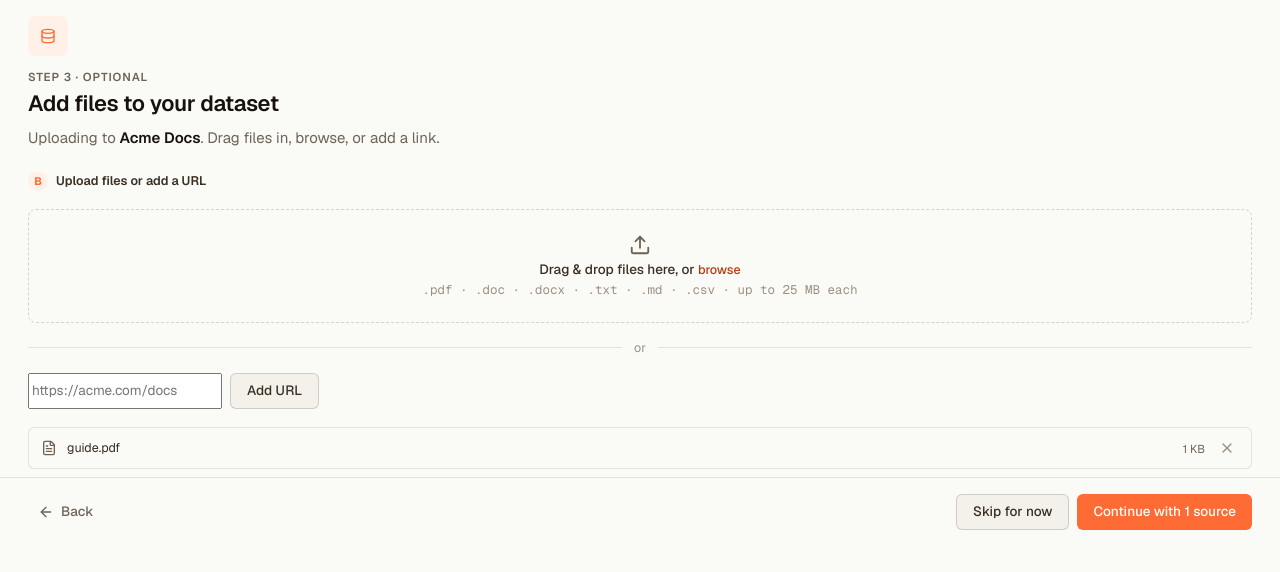
Test: OnboardingSource — files phase › shows a URL validation error when an invalid URL is submitted
Type "not-a-url!!!" into the field with placeholder "https://acme.com/docs" at point(125, 391), box left=28, top=373, right=222, bottom=409
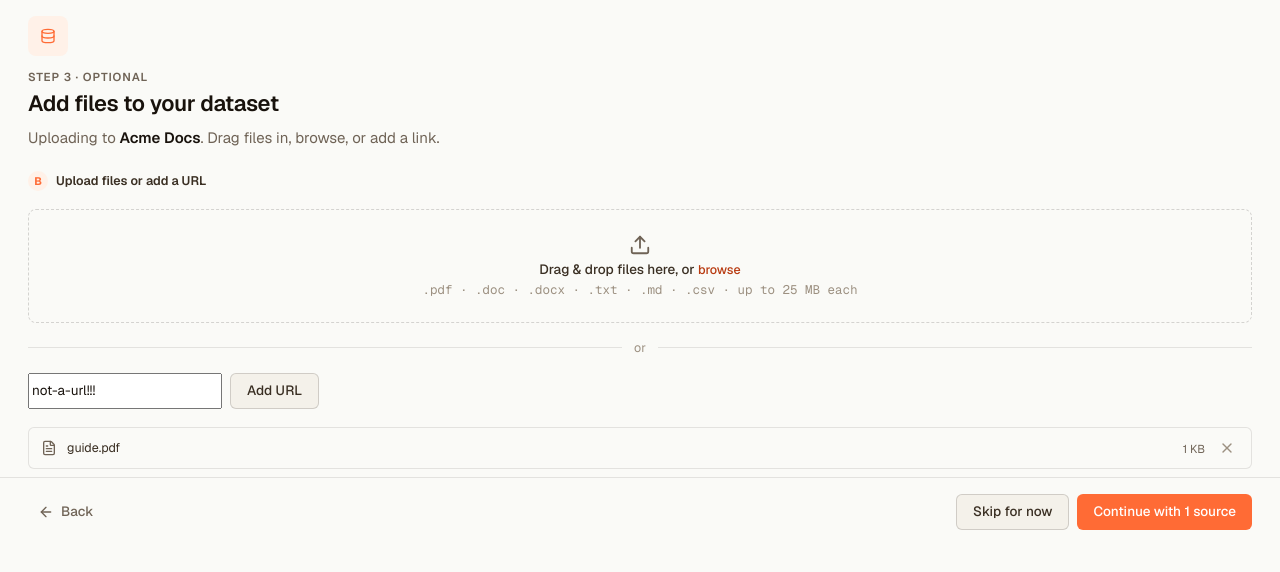
Click the button with class "ob-btn-secondary" showing "Add URL" at point(274, 391), box left=230, top=373, right=319, bottom=409
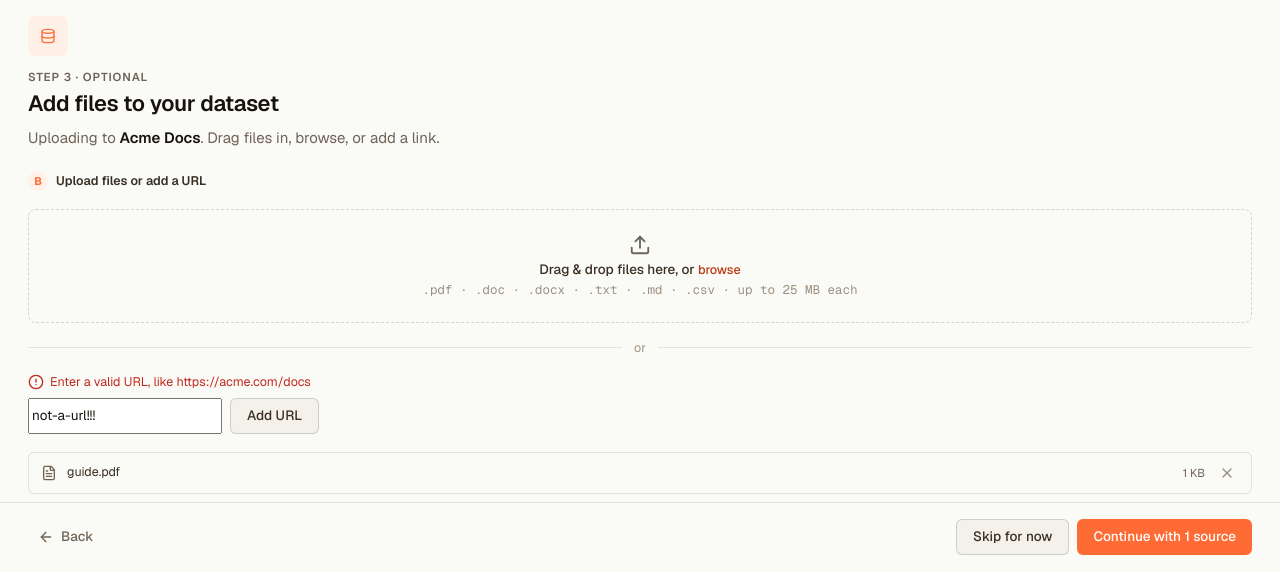
Expected: the element with class "ob-error-text" is shown, left=28, top=373, right=311, bottom=390
